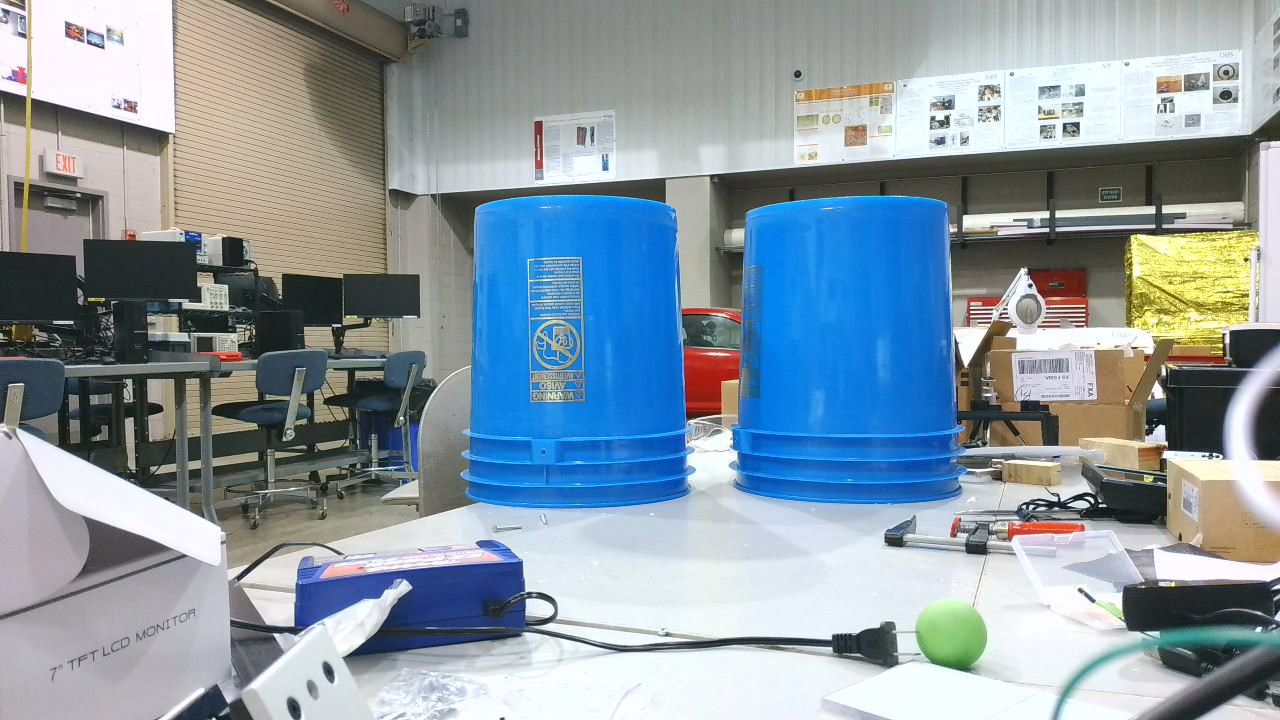blue_bucket: (459, 196, 704, 518), (730, 198, 978, 513)
